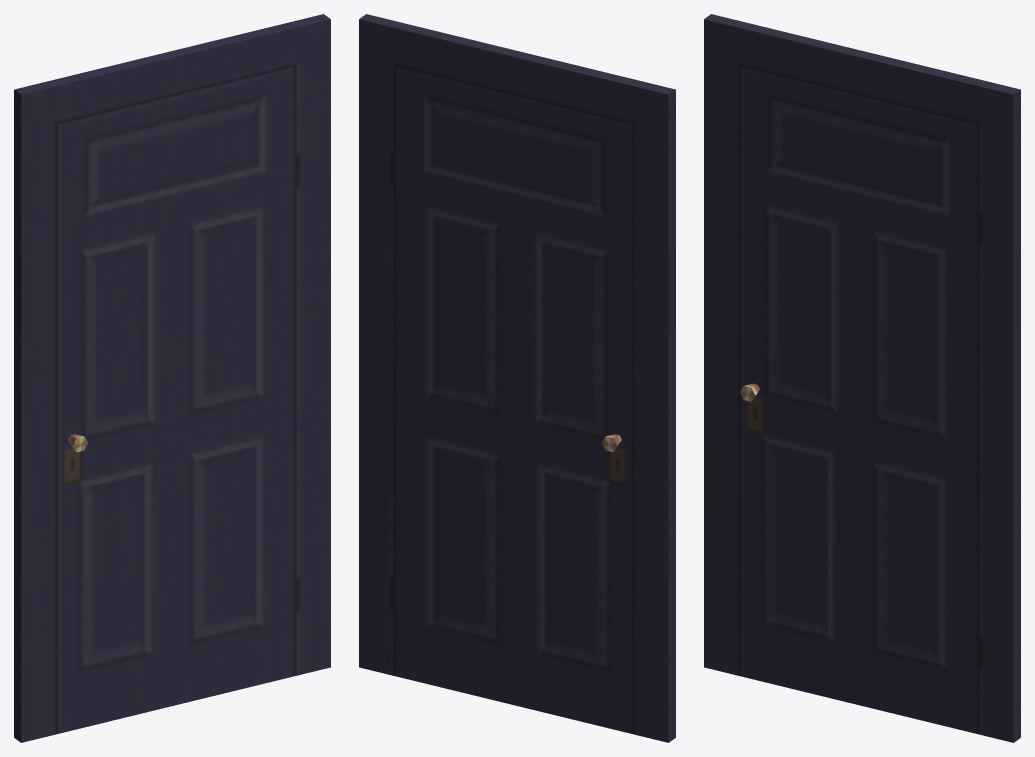
File: [PSX] Extierior Motel Door.fbx
3 views of the same model, side by side, from view 1: azimuth 30°, elevation 25°; view 2: azimuth 150°, elevation 25°; view 3: azimuth 330°, elevation 25° (orthographic).
Visible parts, largest first — view 1: Extierior Door, Extierior Door Frame; view 2: Extierior Door, Extierior Door Frame; view 3: Extierior Door, Extierior Door Frame.
Boxes of the visible parts, x1,y1,x2,y2 form: Extierior Door: (57,65,295,733); Extierior Door Frame: (14,14,330,742); Extierior Door: (394,65,632,733); Extierior Door Frame: (359,14,675,742); Extierior Door: (739,65,977,733); Extierior Door Frame: (704,14,1020,742).
Size of the model in its own units: 100 by 200 by 12.64.
Materials: 2 (2 with a texture image).
